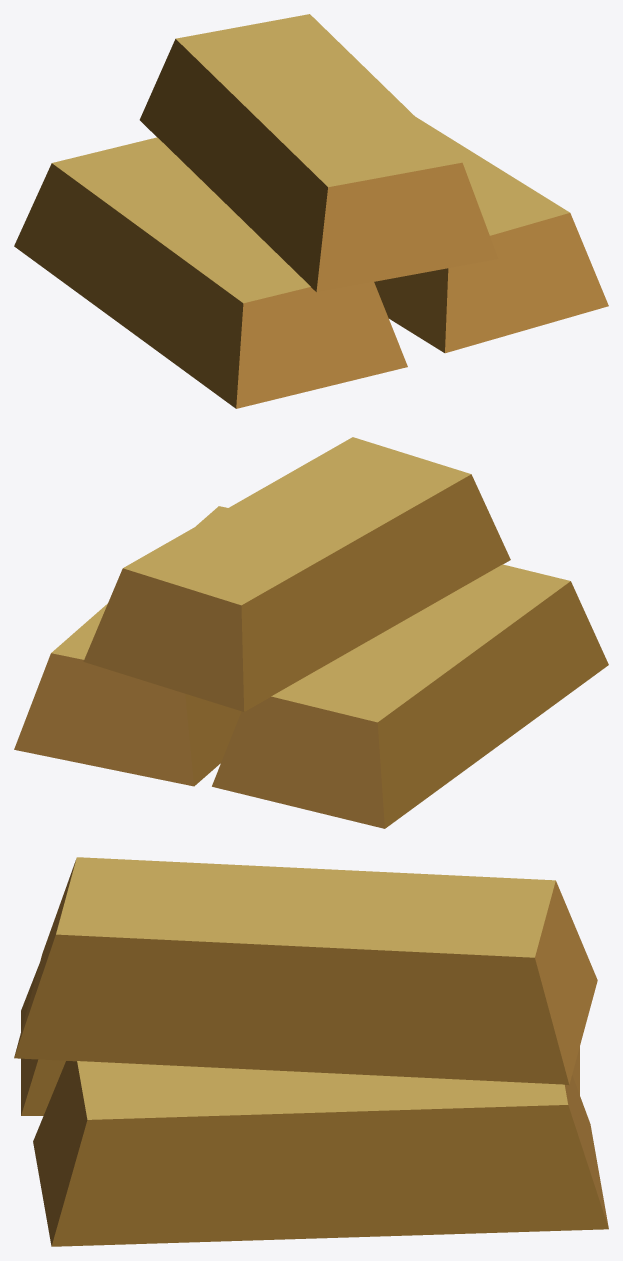
Rendered from GoldBar_02.gltf.
3 views of the same model, one above another, from view 1: azimuth 30°, elevation 25°; view 2: azimuth 150°, elevation 25°; view 3: azimuth 270°, elevation 25° (orthographic). The views are drawn at different scales.
Visible parts, largest first — view 1: SF_Prop_GoldBar_02; view 2: SF_Prop_GoldBar_02; view 3: SF_Prop_GoldBar_02.
Part boxes in pixels (x1,y1,x2,y2): SF_Prop_GoldBar_02: (14, 14, 608, 408); SF_Prop_GoldBar_02: (14, 437, 608, 828); SF_Prop_GoldBar_02: (14, 857, 608, 1246).
Bounding box in the file's own units: 0.00702 × 0.0031 × 0.00748.
1 material, 1 textured.
